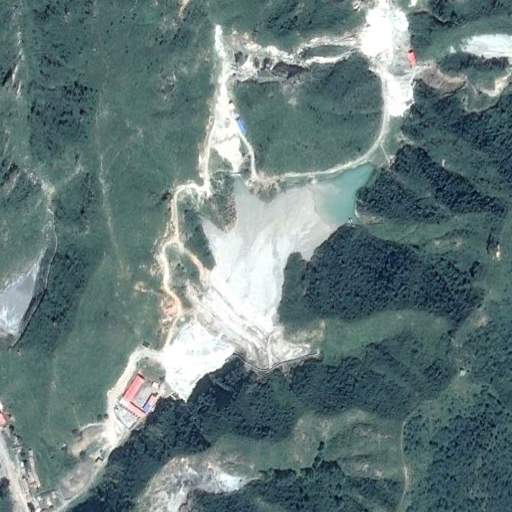tp: (196, 165, 379, 371)
